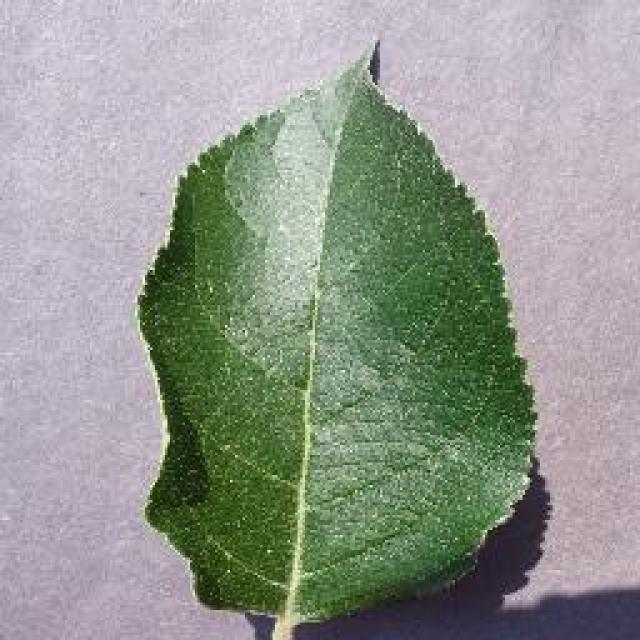apple healthy: (132, 35, 540, 637)
